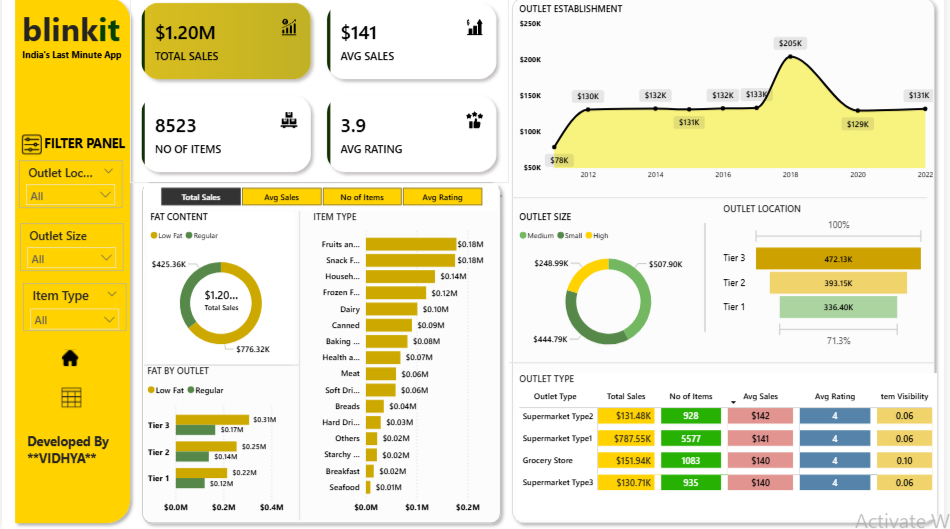

What the dashboard file says about the page in this screenshot:
{"tool":"powerbi","page":{"name":"Page 1","canvas":[1400,800],"ordinal":0},"visuals":[{"type":"shape","box":[9.7,0,189.1,800.2],"z":0},{"type":"textbox","box":[25.4,17.4,172.6,77.6],"z":1000},{"type":"textbox","box":[25.4,80.3,165.9,52.2],"z":2000},{"type":"cardVisual","fields":{"Data":["BlinkIT Grocery Data.Total Sales","BlinkIT Grocery Data.Avg Sales","BlinkIT Grocery Data.No of Items","BlinkIT Grocery Data.Avg Rating"]},"box":[190.8,0,562.6,286.1],"z":3000},{"type":"shape","box":[198.8,274.8,551.3,525.4],"z":4000},{"type":"donutChart","title":"FAT CONTENT","fields":{"Y":["BlinkIT Grocery Data.Total Sales"],"Category":["BlinkIT Grocery Data.Item Fat Content"]},"box":[215,326.6,219.9,229.6],"z":5000},{"type":"slicer","fields":{"Values":["Metrics.Metrics"]},"box":[211.8,286.1,527,40.4],"z":6000},{"type":"cardVisual","fields":{"Data":["BlinkIT Grocery Data.Total Sales"]},"box":[284.5,423.6,85.7,66.3],"z":7000},{"type":"clusteredBarChart","title":"FAT BY OUTLET","fields":{"Y":["BlinkIT Grocery Data.Total Sales"],"Category":["BlinkIT Grocery Data.Outlet Location Type"],"Series":["BlinkIT Grocery Data.Item Fat Content"]},"box":[211.8,556.1,219.9,229.6],"z":8000},{"type":"shape","box":[215,538.3,216.6,35.6],"z":9000},{"type":"shape","box":[413.9,326.6,58.2,459.1],"z":10000},{"type":"barChart","title":"ITEM TYPE","fields":{"Y":["BlinkIT Grocery Data.Total Sales"],"Category":["BlinkIT Grocery Data.Item Type"]},"box":[457.5,326.6,281.3,459.1],"z":11000},{"type":"shape","box":[750.1,0,646.7,800.2],"z":12000},{"type":"lineChart","title":"OUTLET ESTABLISHMENT","fields":{"Y":["BlinkIT Grocery Data.Total Sales"],"Category":["BlinkIT Grocery Data.Outlet Establishment Year"]},"box":[764.7,17.8,625.6,273.2],"z":13000},{"type":"shape","box":[211.8,538.3,231.2,35.6],"z":14000},{"type":"shape","box":[758.2,286.1,617.6,43.6],"z":15000},{"type":"donutChart","title":"OUTLET SIZE","fields":{"Y":["BlinkIT Grocery Data.Total Sales"],"Category":["BlinkIT Grocery Data.Outlet Size"]},"box":[764.7,326.6,274.8,224.7],"z":16000},{"type":"shape","box":[1016.9,344.3,56.6,161.7],"z":17000},{"type":"funnel","title":"OUTLET LOCATION","fields":{"Y":["Sum(BlinkIT Grocery Data.Sales)"],"Category":["BlinkIT Grocery Data.Outlet Location Type"]},"box":[1067,315.2,308.8,219.9],"z":18000},{"type":"shape","box":[753.3,530.3,632.1,43.6],"z":19000},{"type":"pivotTable","title":"OUTLET TYPE","fields":{"Rows":["BlinkIT Grocery Data.Outlet Type"],"Values":["BlinkIT Grocery Data.Total Sales","BlinkIT Grocery Data.No of Items","BlinkIT Grocery Data.Avg Sales","BlinkIT Grocery Data.Avg Rating","Avg(BlinkIT Grocery Data.Item Visibility)"]},"box":[764.7,567.4,625.6,218.2],"z":20000},{"type":"slicer","fields":{"Values":["BlinkIT Grocery Data.Outlet Location Type"]},"box":[25.9,250.6,153.6,71.1],"z":21000},{"type":"slicer","fields":{"Values":["BlinkIT Grocery Data.Outlet Size"]},"box":[27.5,344.3,153.6,71.1],"z":22000},{"type":"slicer","fields":{"Values":["BlinkIT Grocery Data.Item Type"]},"box":[30.7,434.9,153.6,71.1],"z":23000},{"type":"textbox","box":[58,208.2,132.3,43.1],"z":24000},{"type":"textbox","box":[32.7,651.3,147.2,81.8],"z":25000},{"type":"actionButton","box":[72.9,521.9,58,46.1],"z":25001},{"type":"actionButton","box":[25.3,208.2,38.7,40.1],"z":25002},{"type":"actionButton","box":[77.3,584.4,52,40.1],"z":25003}]}

Visuals, with their boxes in screenshot pixels (x1, y1, x2, y2), scaled from the page's 1400x800 canvas onto the 950x529 screenshot:
shape: (left=7, top=0, right=135, bottom=528)
textbox: (left=17, top=12, right=134, bottom=63)
textbox: (left=17, top=53, right=130, bottom=88)
cardVisual - BlinkIT Grocery Data.Total Sales x BlinkIT Grocery Data.Avg Sales: (left=129, top=0, right=511, bottom=189)
shape: (left=135, top=182, right=509, bottom=528)
"FAT CONTENT" donutChart: (left=146, top=216, right=295, bottom=368)
slicer - Metrics.Metrics: (left=144, top=189, right=501, bottom=216)
cardVisual - BlinkIT Grocery Data.Total Sales: (left=193, top=280, right=251, bottom=324)
"FAT BY OUTLET" clusteredBarChart: (left=144, top=368, right=293, bottom=520)
shape: (left=146, top=356, right=293, bottom=379)
shape: (left=281, top=216, right=320, bottom=520)
"ITEM TYPE" barChart: (left=310, top=216, right=501, bottom=520)
shape: (left=509, top=0, right=948, bottom=528)
"OUTLET ESTABLISHMENT" lineChart: (left=519, top=12, right=943, bottom=192)
shape: (left=144, top=356, right=301, bottom=379)
shape: (left=514, top=189, right=934, bottom=218)
"OUTLET SIZE" donutChart: (left=519, top=216, right=705, bottom=365)
shape: (left=690, top=228, right=728, bottom=335)
"OUTLET LOCATION" funnel: (left=724, top=208, right=934, bottom=354)
shape: (left=511, top=351, right=940, bottom=379)
"OUTLET TYPE" pivotTable: (left=519, top=375, right=943, bottom=519)
slicer - BlinkIT Grocery Data.Outlet Location Type: (left=18, top=166, right=122, bottom=213)
slicer - BlinkIT Grocery Data.Outlet Size: (left=19, top=228, right=123, bottom=275)
slicer - BlinkIT Grocery Data.Item Type: (left=21, top=288, right=125, bottom=335)
textbox: (left=39, top=138, right=129, bottom=166)
textbox: (left=22, top=431, right=122, bottom=485)
actionButton: (left=49, top=345, right=89, bottom=376)
actionButton: (left=17, top=138, right=43, bottom=164)
actionButton: (left=52, top=386, right=88, bottom=413)
